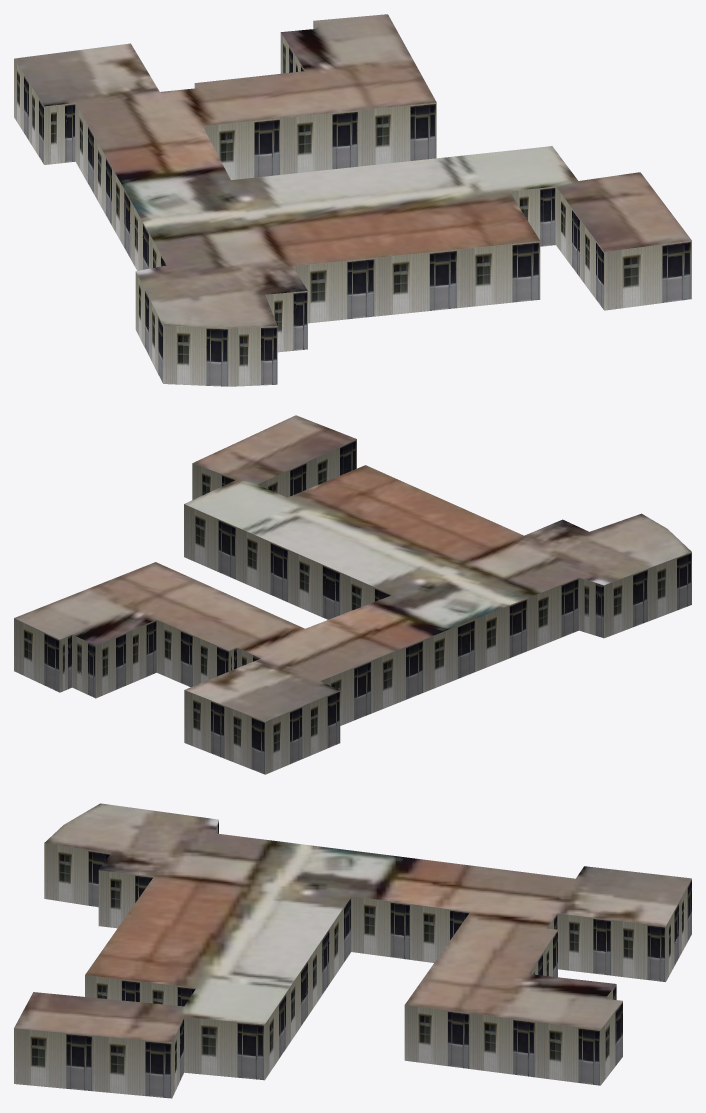
Rendered from T_1SXXX4NUM6.dae.
3 views of the same model, one above another, from view 1: azimuth 30°, elevation 25°; view 2: azimuth 150°, elevation 25°; view 3: azimuth 270°, elevation 25° (orthographic). The views are drawn at different scales.
Parts seen in each view (by area): view 1: SketchUp (×13); view 2: SketchUp (×14); view 3: SketchUp (×14).
Boxes of the visible parts, left/top/right/bottom form: SketchUp (×13): left=14, top=14, right=691, bottom=386; SketchUp (×14): left=14, top=415, right=691, bottom=774; SketchUp (×14): left=14, top=803, right=691, bottom=1098.
Size of the model in its own units: 37.66 by 45.08 by 4.1.
Materials: 2 (2 with a texture image).
